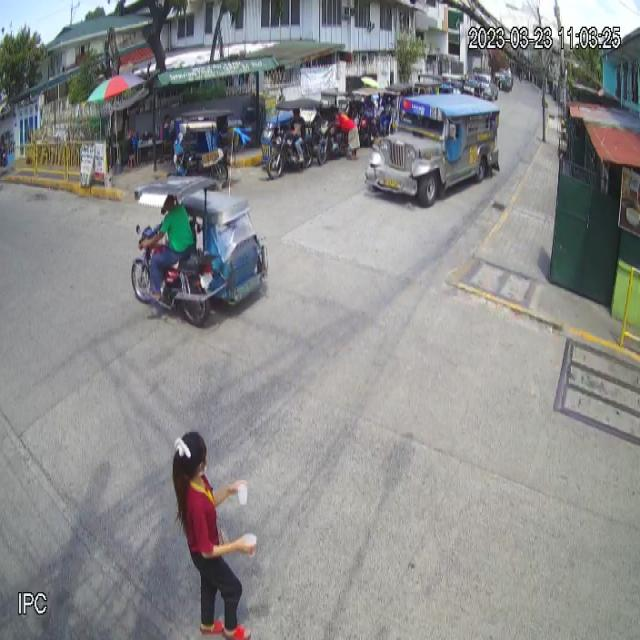Jeep: (364, 94, 501, 209)
Tricycle: (132, 175, 270, 327)
